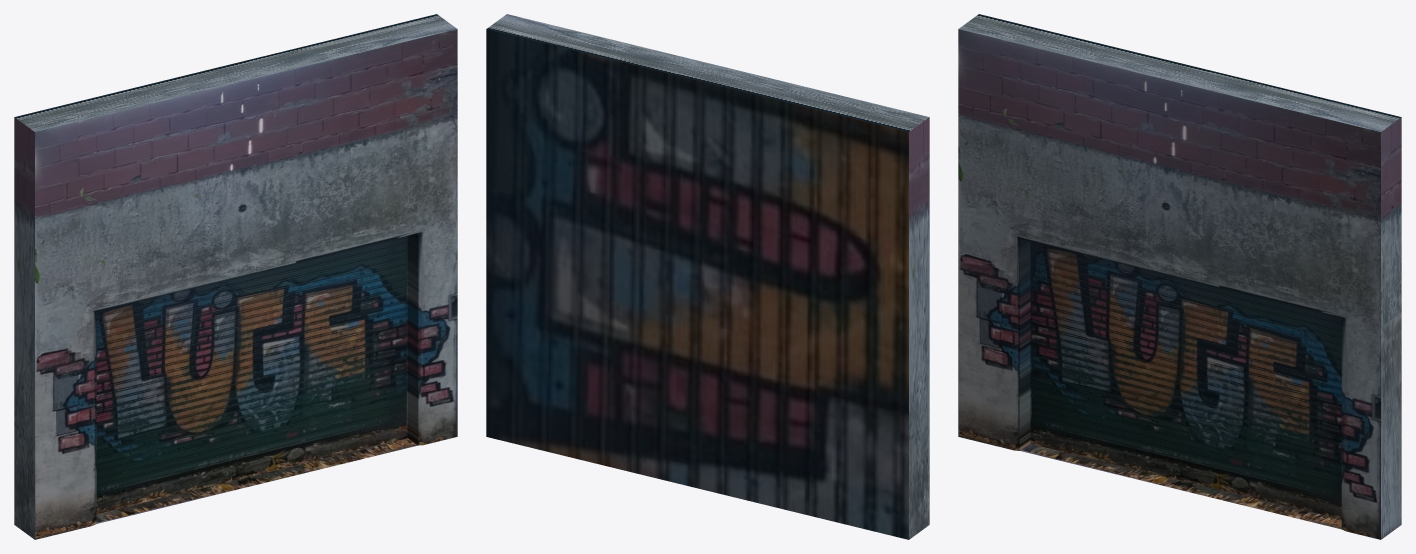
Rendered from portoncongraffiti.fbx.
3 renders of one model, left to right at view 1: azimuth 30°, elevation 25°; view 2: azimuth 150°, elevation 25°; view 3: azimuth 330°, elevation 25°, orthographic.
Parts seen in each view (by area): view 1: Cube; view 2: Cube; view 3: Cube.
Part boxes in pixels (box(x1,y1,x2,y2)): Cube: box(14, 14, 457, 539); Cube: box(486, 14, 929, 539); Cube: box(958, 14, 1401, 539).
Bounding box in the file's own units: 690 × 636 × 58.2.
